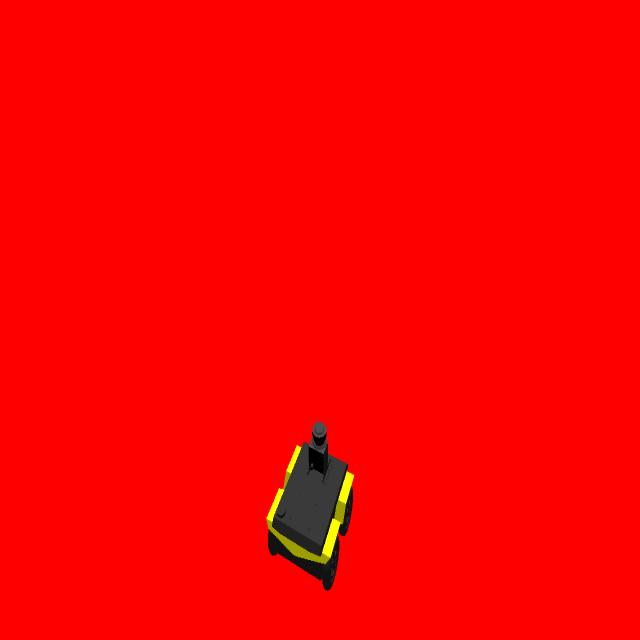jackal: (266, 419, 356, 591)
